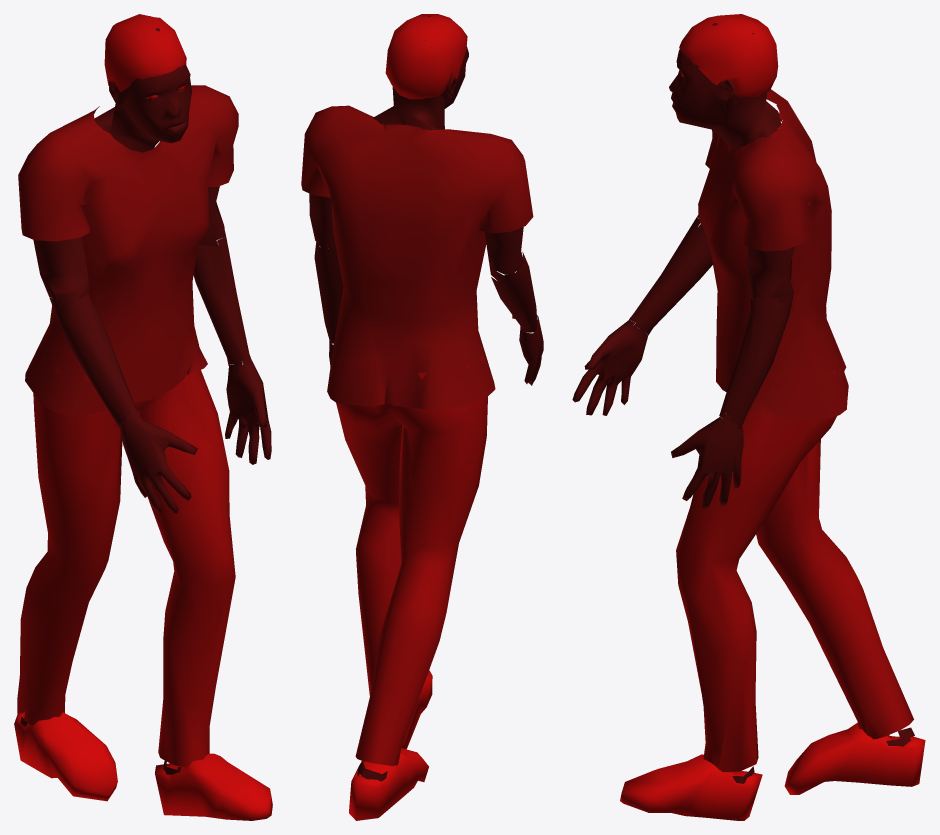
Rendered from crowd_manStand.glb.
3 views of the same model, side by side, from view 1: azimuth 30°, elevation 25°; view 2: azimuth 150°, elevation 25°; view 3: azimuth 270°, elevation 25° (orthographic). The views are drawn at different scales.
Parts seen in each view (by area): view 1: manStand; view 2: manStand; view 3: manStand.
Part boxes in pixels (x1,y1,x2,y2): manStand: (14,14,272,820); manStand: (301,14,543,820); manStand: (572,14,925,820).
Size of the model in its own units: 0.5308 by 1.82 by 0.744.
